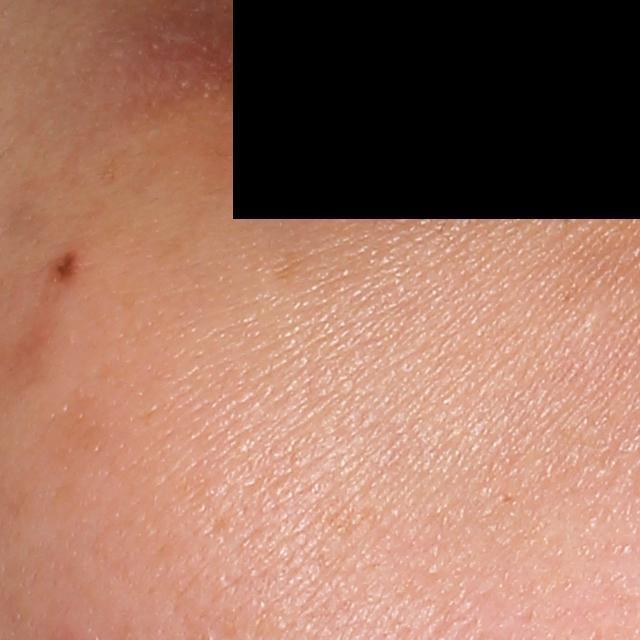nevus: (50, 245, 83, 287)
